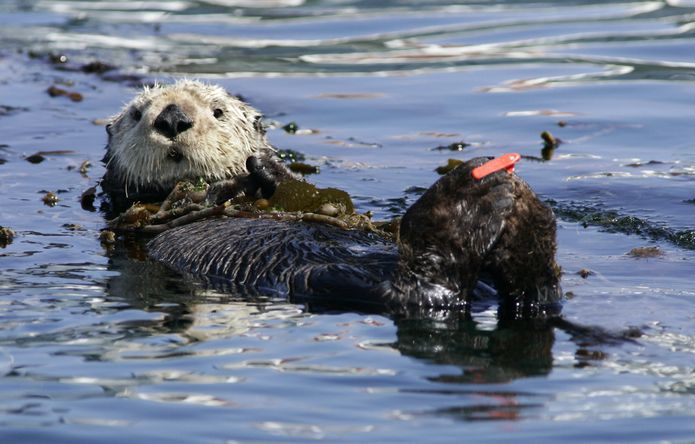otter: (85, 63, 590, 379)
